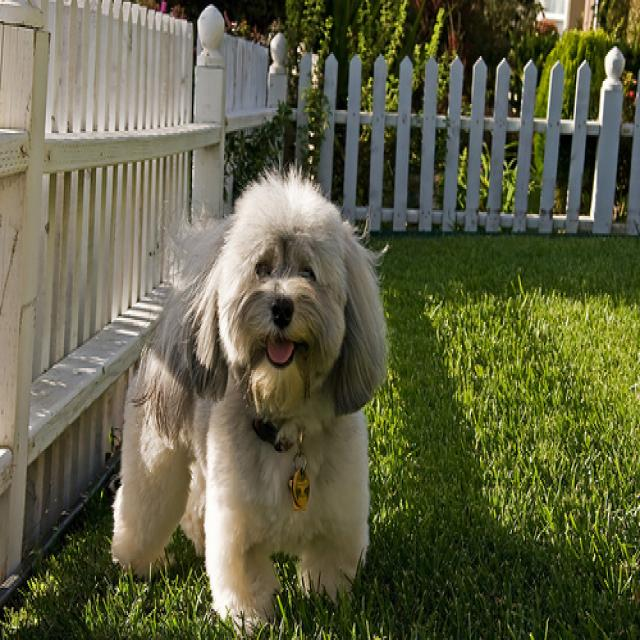dog: (182, 179, 385, 411)
